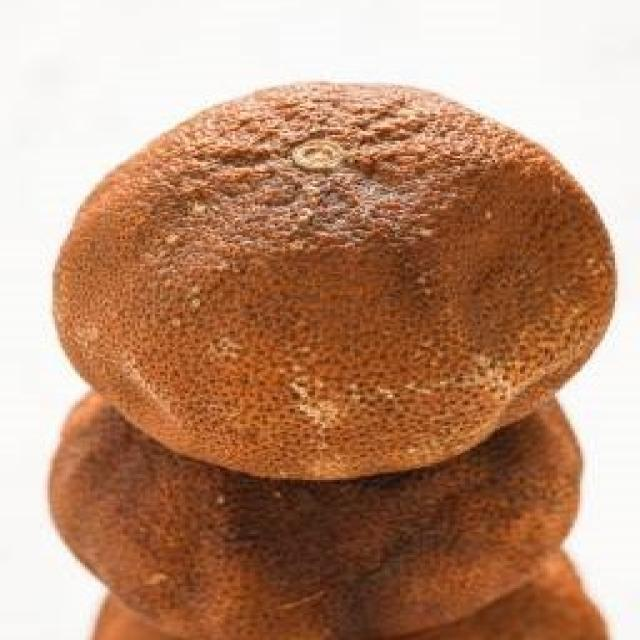overripe: (48, 67, 620, 480)
